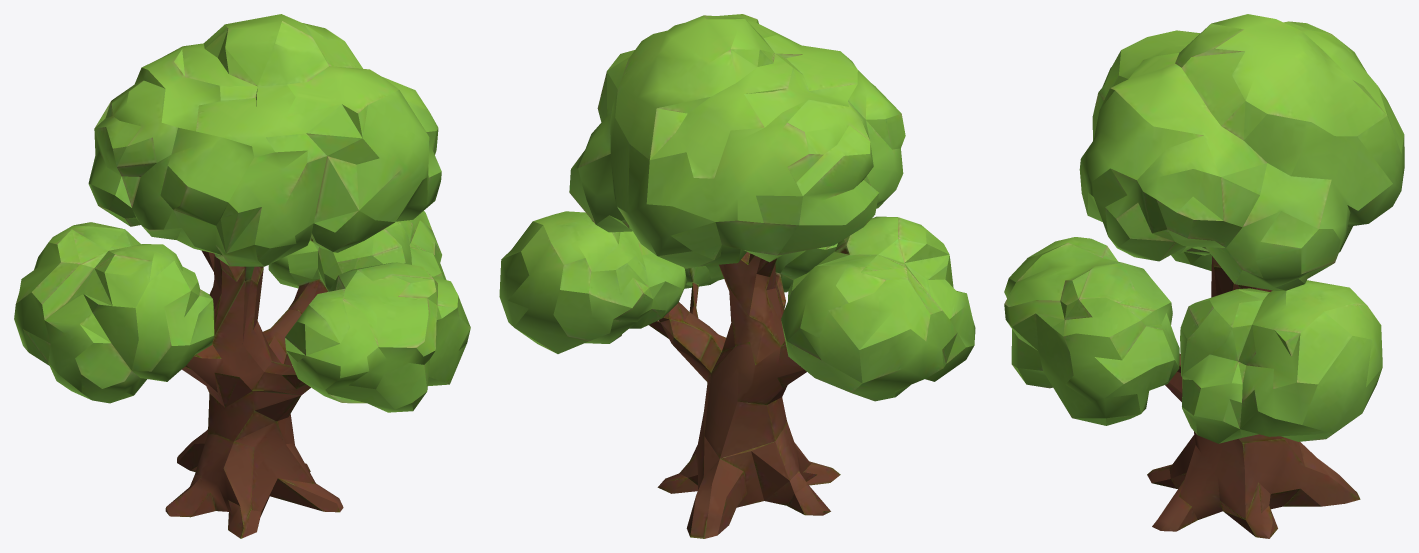
Rendered from nature-tree-round.glb.
3 renders of one model, left to right at view 1: azimuth 30°, elevation 25°; view 2: azimuth 150°, elevation 25°; view 3: azimuth 270°, elevation 25°, orthographic. The views are drawn at different scales.
Visible parts, largest first — view 1: nature-tree-round-fit; view 2: nature-tree-round-fit; view 3: nature-tree-round-fit.
Part boxes in pixels (left/top/right/bottom): nature-tree-round-fit: left=14, top=14, right=470, bottom=538; nature-tree-round-fit: left=499, top=14, right=975, bottom=538; nature-tree-round-fit: left=1004, top=14, right=1404, bottom=538.
Size of the model in its own units: 3.9 by 4.12 by 3.05.
Materials: 1 (1 with a texture image).
